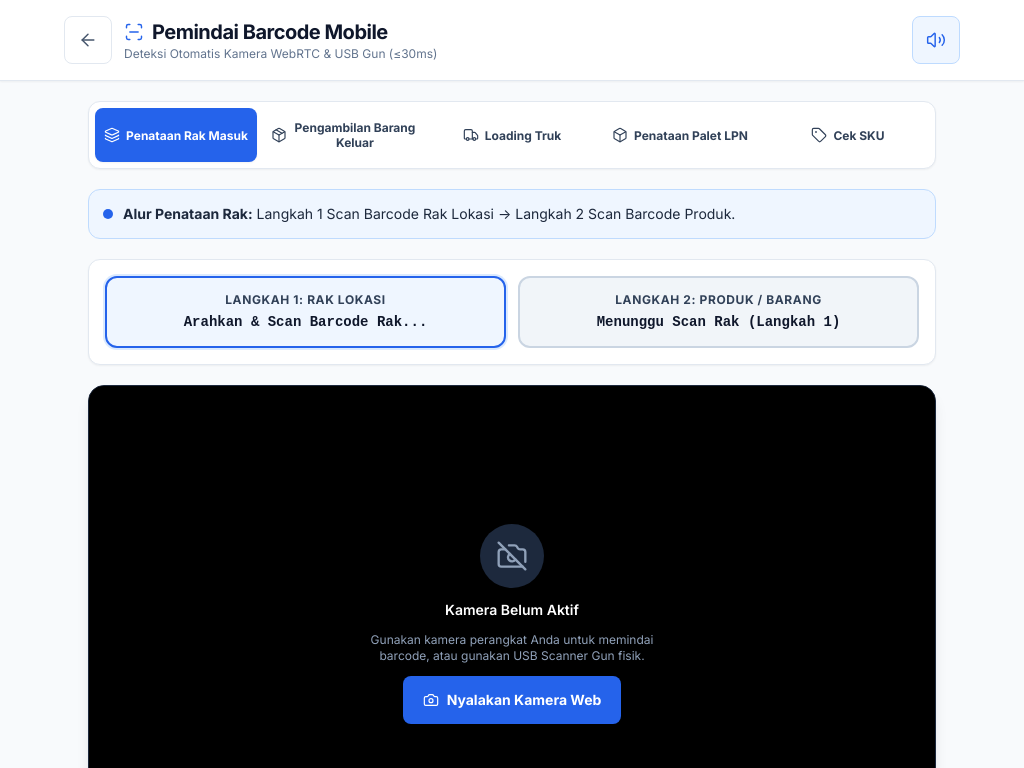
Test case: Task 6: Barcode Scanner Truck Loading Mode › displays manifest metadata, progress bar, and DO checklist when manifest selected
Click the button "Loading Truk": point(512, 135) [431,108,593,162]
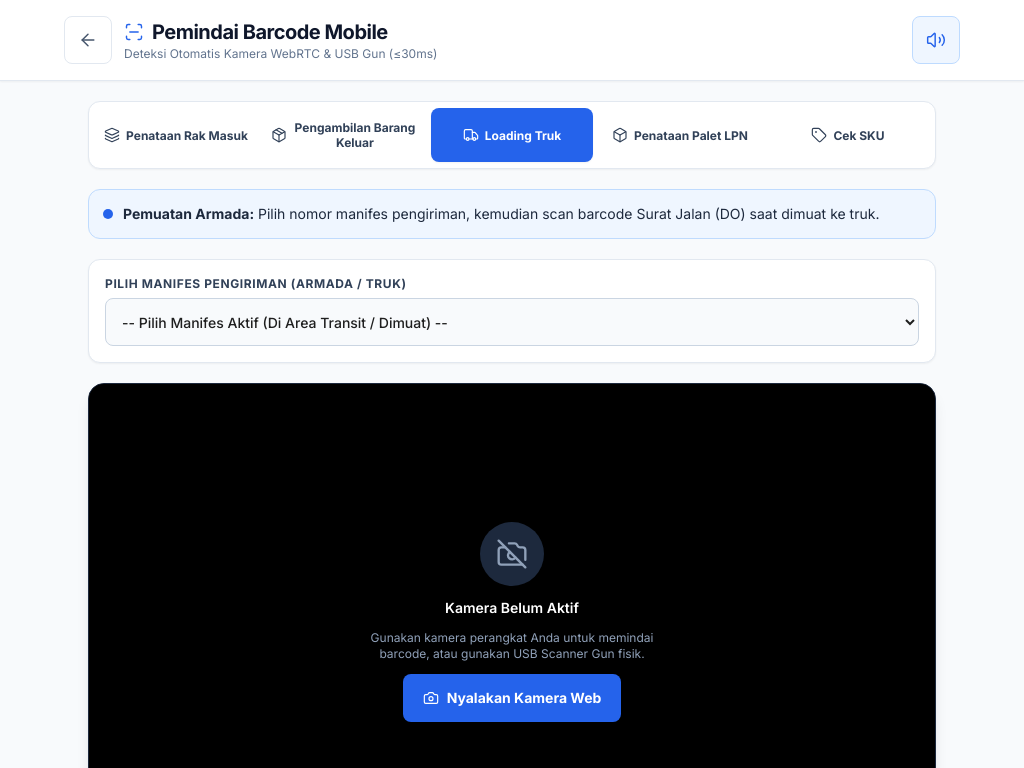
Select "MAN-20261008-001 — JNE Trucking (B 1234 CD) — [Di Area Transit]" in the dropdown labelled "Pilih Manifes Pengiriman (Armada / Truk)": point(512, 322) [105,298,919,346]
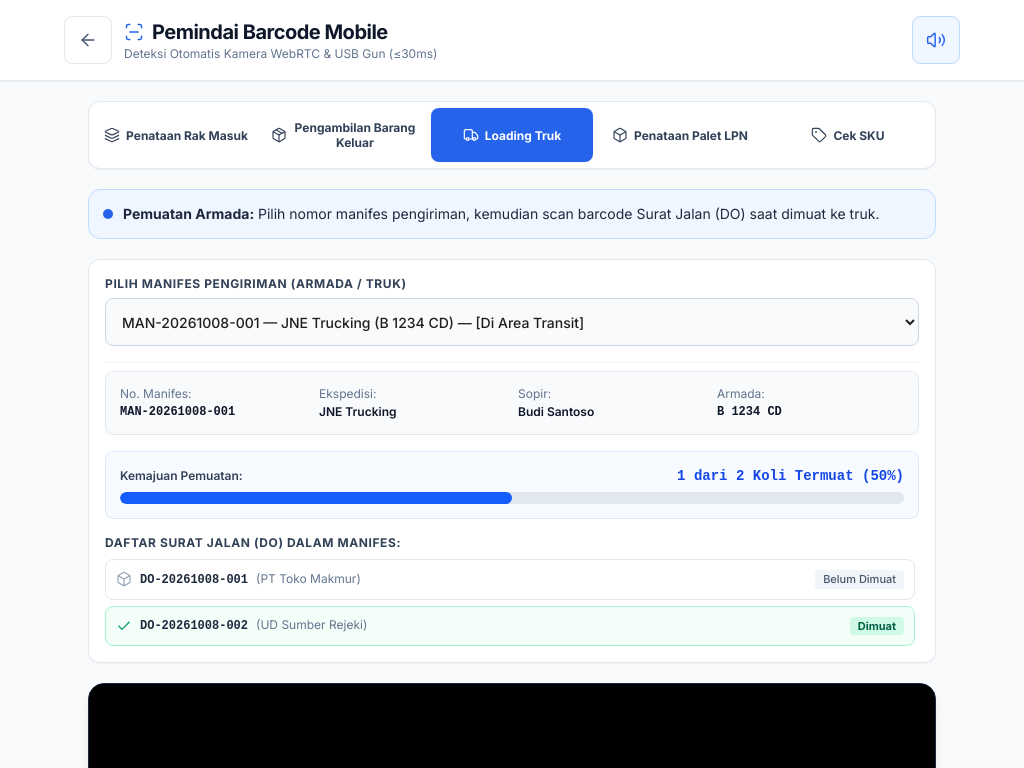
Check: the text "Budi Santoso" is shown, box [518,404,594,419]
Check: the text "B 1234 CD" is shown, box [717,405,782,419]
Check: the text "1 dari 2 Koli Termuat (50%)" is shown, box [677,466,904,486]
